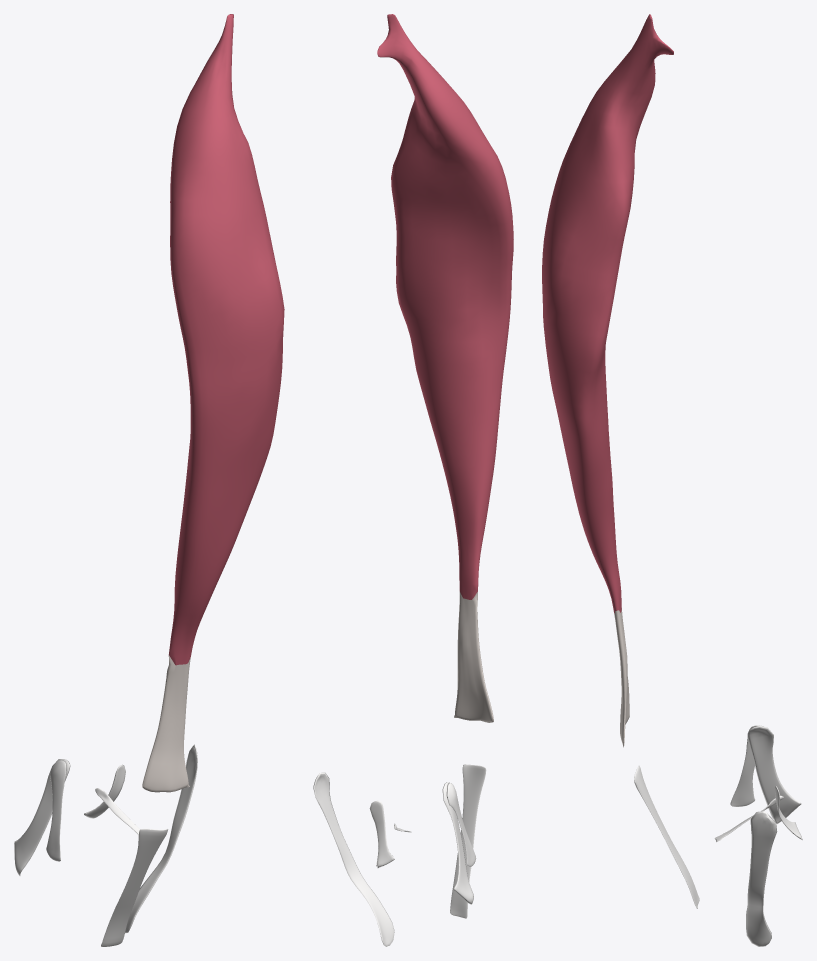
File: VH_M_Knee_R_Landmarks.glb
3 views of the same model, side by side, from view 1: azimuth 30°, elevation 25°; view 2: azimuth 150°, elevation 25°; view 3: azimuth 270°, elevation 25° (orthographic). The views are drawn at different scales.
Parts seen in each view (by area): view 1: VH_M_knee_R_landmark_rectus_femoris, VH_M_knee_R_landmark_ligaments; view 2: VH_M_knee_R_landmark_rectus_femoris, VH_M_knee_R_landmark_ligaments; view 3: VH_M_knee_R_landmark_rectus_femoris, VH_M_knee_R_landmark_ligaments.
Boxes of the visible parts, box(x1,y1,x2,y2) form: VH_M_knee_R_landmark_rectus_femoris: box(142, 14, 284, 792); VH_M_knee_R_landmark_ligaments: box(14, 744, 197, 946); VH_M_knee_R_landmark_rectus_femoris: box(377, 14, 513, 722); VH_M_knee_R_landmark_ligaments: box(313, 764, 486, 946); VH_M_knee_R_landmark_rectus_femoris: box(542, 14, 673, 747); VH_M_knee_R_landmark_ligaments: box(634, 725, 802, 946).
Bounding box in the file's own units: 0.1096 × 0.574 × 0.1418.
